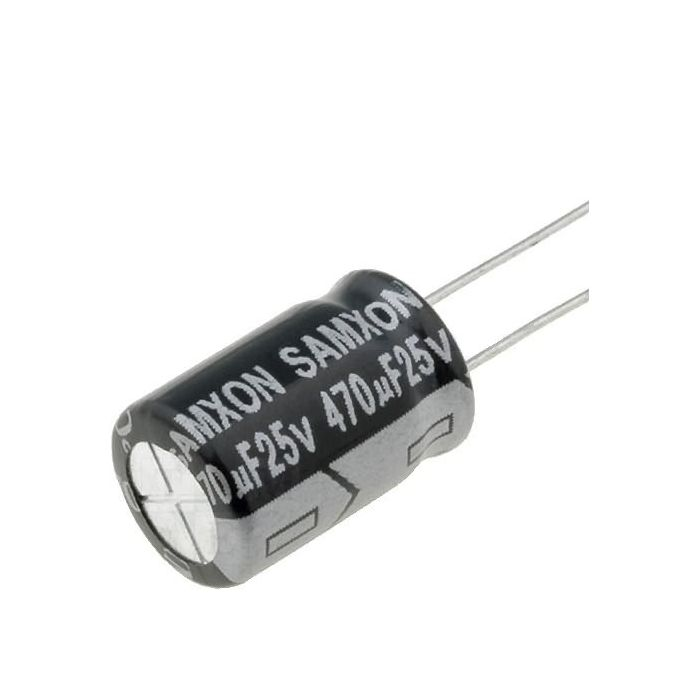Capacitor: (109, 268, 477, 589)
